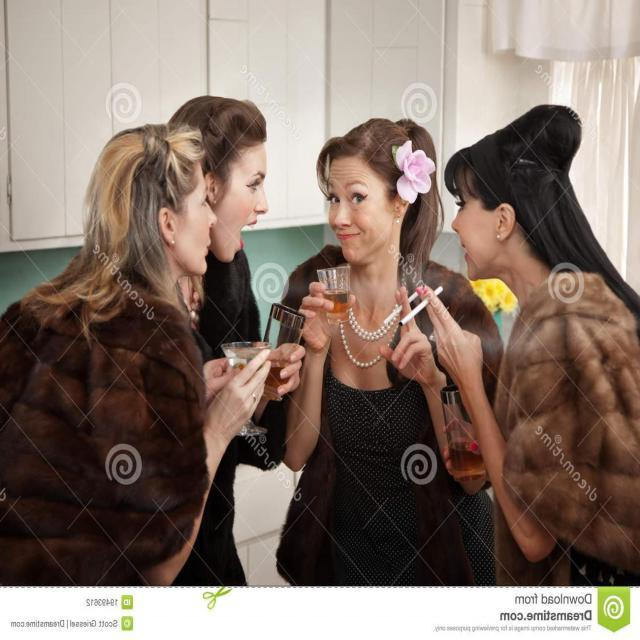cigarette: (377, 278, 454, 350)
